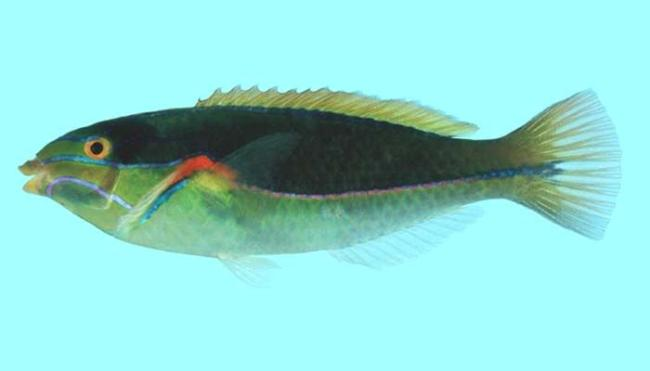fish: (17, 82, 623, 287)
